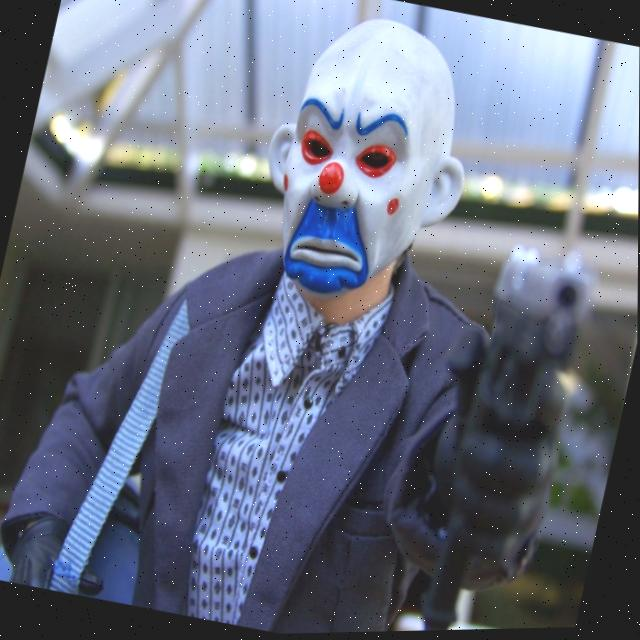pistol: (469, 242, 595, 427)
